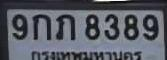3: (104, 13, 118, 39)
8: (123, 13, 138, 39), (84, 13, 99, 39)
9: (11, 13, 27, 39), (142, 13, 157, 39)
A01: (32, 13, 50, 39)
A32: (54, 13, 74, 39)
